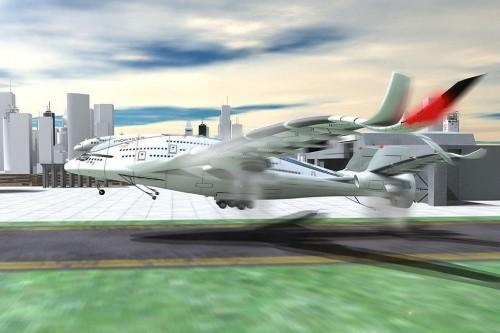airplane: (60, 68, 492, 217)
